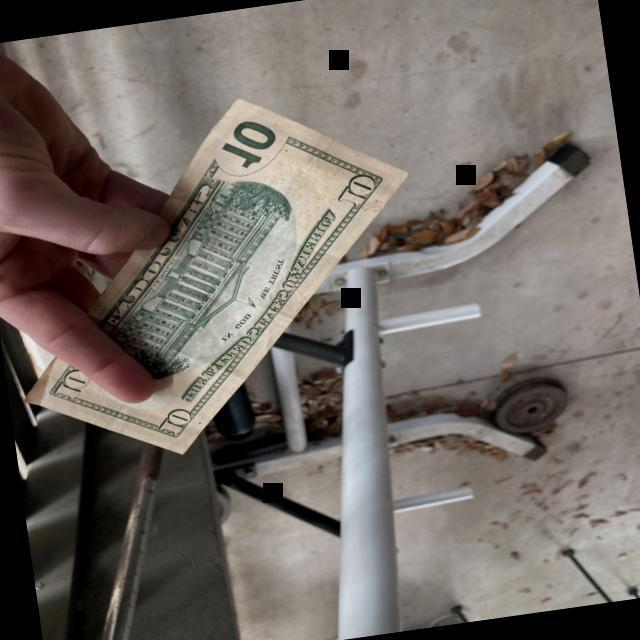ten: (23, 96, 411, 454)
